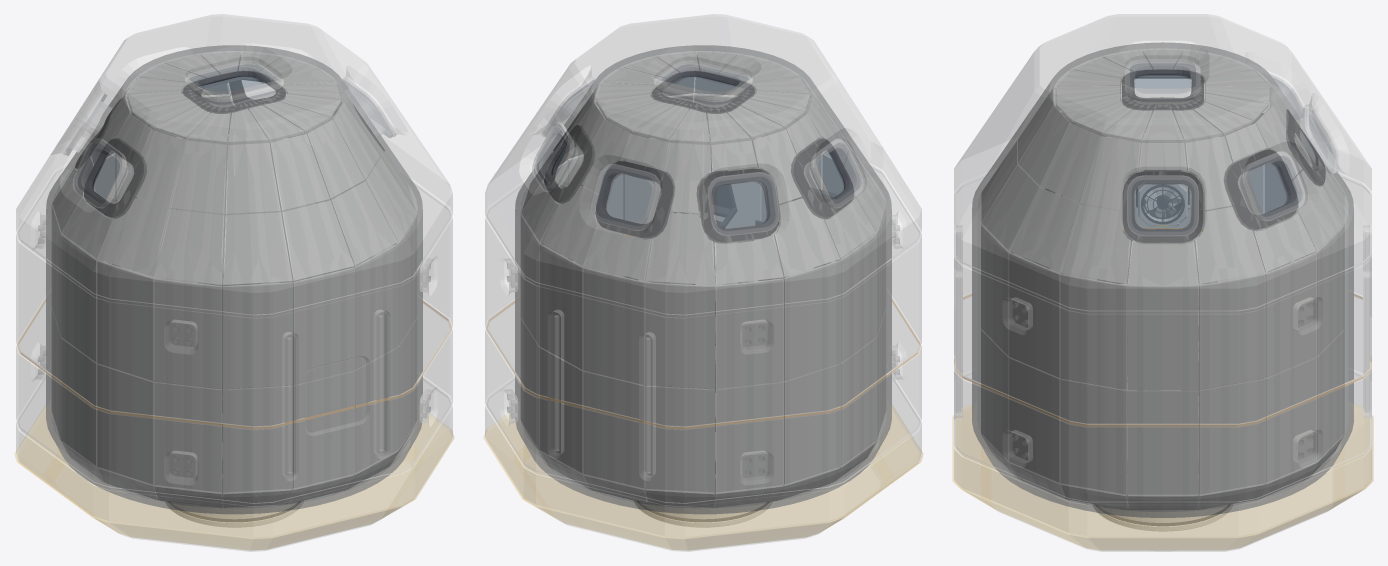
The model's file is ax_cmd_06_tug_cab_combined.glb.
The picture shows the model from 3 angles, left to right: view 1: azimuth 30°, elevation 25°; view 2: azimuth 150°, elevation 25°; view 3: azimuth 270°, elevation 25°; orthographic projection.
Parts seen in each view (by area): view 1: ext_shell, pressure_vessel, ext_mli_aft_bulkhead, panel_b2_f11, panel_b3_f11, panel_b2_f10, panel_b3_f10, panel_b2_f12, panel_b3_f12, panel_b2_f09, panel_b3_f09, ext_window_glass (+56 smaller); view 2: ext_shell, pressure_vessel, ext_mli_aft_bulkhead, ext_window_glass, panel_b2_f05, panel_b3_f05, panel_b2_f06, panel_b3_f06, panel_b2_f04, panel_b3_f04, panel_b2_f07, panel_b3_f07 (+65 smaller); view 3: ext_shell, pressure_vessel, ext_mli_aft_bulkhead, ext_window_glass, panel_b2_f00, panel_b3_f00, panel_b2_f01, panel_b2_f15, panel_b3_f01, panel_b3_f15, panel_b3_f02, panel_b3_f14 (+62 smaller).
Part boxes in pixels (x1,y1,x2,y2): ext_shell: (16, 14, 452, 551); pressure_vessel: (46, 45, 422, 513); ext_mli_aft_bulkhead: (14, 405, 454, 550); panel_b2_f11: (223, 386, 292, 492); panel_b3_f11: (223, 282, 292, 388); panel_b2_f10: (154, 382, 221, 492); panel_b3_f10: (154, 279, 221, 388); panel_b2_f12: (293, 371, 354, 488); panel_b3_f12: (293, 268, 354, 384); panel_b2_f09: (97, 364, 153, 484); panel_b3_f09: (97, 261, 153, 380); ext_window_glass: (66, 63, 392, 207); ext_shell: (485, 14, 921, 551); pressure_vessel: (515, 45, 891, 513); ext_mli_aft_bulkhead: (483, 405, 923, 550); ext_window_glass: (535, 63, 861, 234); panel_b2_f05: (645, 386, 714, 492); panel_b3_f05: (645, 282, 714, 388); panel_b2_f06: (716, 382, 783, 492); panel_b3_f06: (716, 279, 783, 388); panel_b2_f04: (583, 371, 644, 488); panel_b3_f04: (583, 268, 644, 384); panel_b2_f07: (784, 364, 840, 484); panel_b3_f07: (784, 261, 840, 380); ext_shell: (954, 14, 1371, 551); pressure_vessel: (972, 42, 1353, 517); ext_mli_aft_bulkhead: (952, 404, 1373, 550); ext_window_glass: (1127, 62, 1333, 234); panel_b2_f00: (1127, 390, 1198, 494); panel_b3_f00: (1127, 286, 1198, 389); panel_b2_f01: (1199, 379, 1265, 494); panel_b2_f15: (1060, 379, 1126, 494); panel_b3_f01: (1199, 274, 1265, 389); panel_b3_f15: (1060, 274, 1126, 389); panel_b3_f02: (1265, 253, 1316, 377); panel_b3_f14: (1009, 253, 1060, 377).
Bounding box in the file's own units: 2.36 × 2.78 × 2.36.
